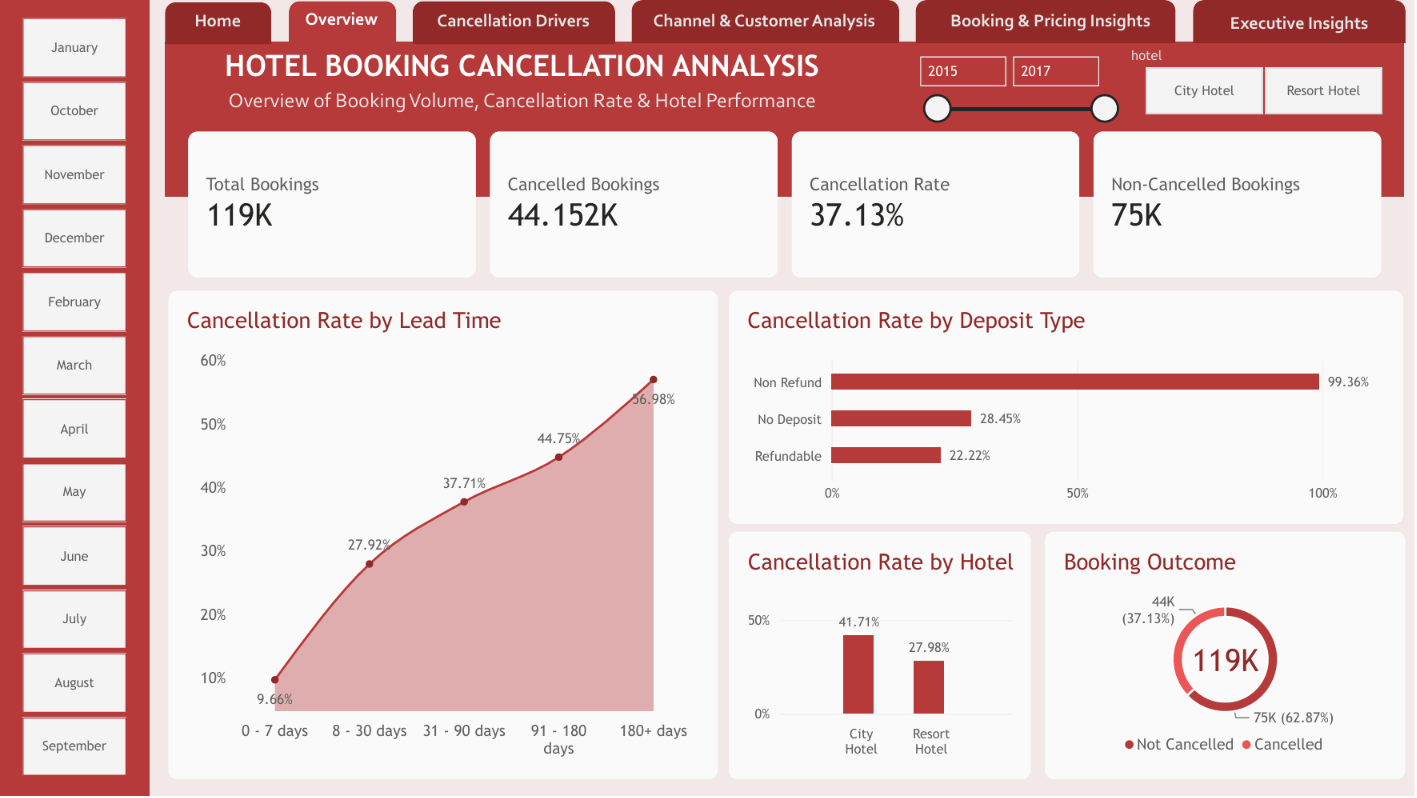

This screenshot's page, from the dashboard's own definition file:
{"tool":"powerbi","page":{"name":"Overview","canvas":[1280,720],"ordinal":1},"visuals":[{"type":"shape","box":[148.2,38.3,1120.8,140],"z":0,"group":"g6"},{"type":"textbox","box":[198.9,47,606.4,35.1],"z":0,"group":"g4"},{"type":"shape","box":[933.8,476.5,346.2,243.7],"z":0},{"type":"shape","box":[372,0.7,182.6,39],"z":1000,"group":"g6"},{"type":"textbox","box":[234.9,82,533.5,26.9],"z":1000,"group":"g4"},{"type":"group","id":"g1","title":"Group 2","box":[644.1,475,299.2,243.7],"z":1000},{"type":"shape","box":[827.3,0,234.9,39],"z":2000,"group":"g6"},{"type":"group","id":"g2","title":"Group 2","box":[150.8,253.2,501,464.5],"z":2000},{"type":"shape","box":[570.1,0,241.6,39],"z":3000,"group":"g6"},{"type":"group","id":"g3","title":"Group 2","box":[643.3,250.9,634.6,232.8],"z":3000},{"type":"shape","box":[1.2,0,134.7,720.5],"z":4000},{"type":"shape","box":[259.6,0.6,96.8,39],"z":4000,"group":"g6"},{"type":"shape","box":[1077.8,0.3,192,39],"z":5000,"group":"g6"},{"type":"donutChart","title":"Booking Outcome","fields":{"Category":["hotel_bookings.Booking_Status"],"Y":[" Measures.Total Bookings"]},"box":[947.1,487.4,326.2,223.6],"z":5000},{"type":"shape","box":[148.2,2.1,95.7,37.8],"z":6000,"group":"g6"},{"type":"clusteredColumnChart","title":"Cancellation Rate by Hotel","fields":{"Y":[" Measures.Cancellation Rate"],"Category":["hotel_bookings.hotel"]},"box":[657.5,487.4,273.9,223.2],"z":6000},{"type":"group","id":"g4","title":"Group 3","box":[198.9,47,606.4,61.8],"z":7000,"group":"g6"},{"type":"lineChart","title":"Cancellation Rate by Lead Time","fields":{"Y":[" Measures.Cancellation Rate"],"Category":["hotel_bookings.lead_time_groups"]},"box":[162.9,265.4,488.6,442.8],"z":7000},{"type":"group","id":"g5","title":"Group 5","box":[145.8,7.1,905.2,29.9],"z":8000,"group":"g6"},{"type":"barChart","title":"Cancellation Rate by Deposit Type","fields":{"Category":["hotel_bookings.deposit_type"],"Y":[" Measures.Cancellation Rate"]},"box":[655.1,261.8,610.8,211.3],"z":8000},{"type":"textbox","box":[1102.6,10.6,142.4,25.3],"z":9000,"group":"g6"},{"type":"slicer","fields":{"Values":["hotel_bookings.arrival_date_month"]},"box":[0,14.3,134.3,690],"z":9000},{"type":"group","id":"g6","title":"Group 1","box":[145.8,0,1124,178.3],"z":10000},{"type":"slicer","fields":{"Values":["hotel_bookings.hotel"]},"box":[1016.4,42.8,254.1,62.3],"z":11000},{"type":"slicer","fields":{"Values":["hotel_bookings.arrival_date_year"]},"box":[824.6,46.4,191.8,72.1],"z":12000},{"type":"group","id":"g7","title":"Group 2","box":[984.5,110.5,279.9,144.8],"z":13000},{"type":"group","id":"g8","title":"Group 2","box":[707.1,110.5,279.9,144.8],"z":14000},{"type":"shape","box":[152.3,110.5,279.9,144.8],"z":15000,"group":"g10"},{"type":"group","id":"g9","title":"Group 2","box":[429.7,110.5,279.9,144.8],"z":15000},{"type":"shape","box":[429.7,110.5,279.9,144.8],"z":15000,"group":"g9"},{"type":"shape","box":[707.1,110.5,279.9,144.8],"z":15000,"group":"g8"},{"type":"shape","box":[984.5,110.5,279.9,144.8],"z":15000,"group":"g7"},{"type":"shape","box":[643.3,250.9,634.6,232.8],"z":15000,"group":"g3"},{"type":"shape","box":[150.8,253.2,501,464.5],"z":15000,"group":"g2"},{"type":"shape","box":[644.1,475,299.2,243.7],"z":15000,"group":"g1"},{"type":"group","id":"g10","title":"Group 2","box":[152.3,110.5,279.9,144.8],"z":16000},{"type":"cardVisual","title":"Total Bookings","fields":{"Data":[" Measures.Cancelled Bookings"]},"box":[444.8,152.2,253.4,65.1],"z":16000,"group":"g9"},{"type":"cardVisual","title":"Total Bookings","fields":{"Data":[" Measures.Total Bookings"]},"box":[167.7,152.7,253.4,65.1],"z":16000,"group":"g10"},{"type":"cardVisual","title":"Total Bookings","fields":{"Data":[" Measures.Cancellation Rate"]},"box":[722.5,152.7,253.4,65.1],"z":16000,"group":"g8"},{"type":"cardVisual","title":"Total Bookings","fields":{"Data":[" Measures.Non-Cancelled Bookings"]},"box":[1005.1,155.1,253.4,65.1],"z":16000,"group":"g7"},{"type":"image","box":[164.1,43.4,51.9,61.5],"z":16001},{"type":"textbox","box":[458.4,132.9,228,20.5],"z":17000,"group":"g9"},{"type":"textbox","box":[181.3,133.4,228,20.5],"z":17000,"group":"g10"},{"type":"textbox","box":[736.1,133.4,228,20.5],"z":17000,"group":"g8"},{"type":"textbox","box":[1018.4,133.4,228,20.5],"z":17000,"group":"g7"},{"type":"image","box":[616.6,155.1,66.4,65],"z":18000,"group":"g9"},{"type":"image","box":[339.5,155.6,66.4,65],"z":18000,"group":"g10"},{"type":"image","box":[894.3,155.6,66.4,65],"z":18000,"group":"g8"},{"type":"image","box":[1176.6,155.6,66.4,65],"z":18000,"group":"g7"},{"type":"textbox","box":[145.8,9.1,99.1,27.8],"z":19000,"group":"g5"},{"type":"textbox","box":[267.2,7.1,80.8,26.5],"z":20000,"group":"g5"},{"type":"textbox","box":[376.4,9.1,172.5,27.8],"z":21000,"group":"g5"},{"type":"textbox","box":[577.9,9,227.1,25.6],"z":22000,"group":"g5"},{"type":"textbox","box":[847.3,9,203.7,23.4],"z":23000,"group":"g5"}]}

Visuals, with their boxes in screenshot pixels (x1, y1, x2, y2), scaled from the page's 1280x720 canvas onto the 1417x798 screenshot:
shape: 164:42:1405:198
textbox: 220:52:891:91
shape: 1034:528:1416:797
shape: 412:1:614:44
textbox: 260:91:851:121
"Group 2" group: 713:526:1044:797
shape: 916:0:1176:43
"Group 2" group: 167:281:722:795
shape: 631:0:899:43
"Group 2" group: 712:278:1415:536
shape: 1:0:150:797
shape: 287:1:395:44
shape: 1193:0:1406:44
"Booking Outcome" donutChart: 1048:540:1410:788
shape: 164:2:270:44
"Cancellation Rate by Hotel" clusteredColumnChart: 728:540:1031:788
"Group 3" group: 220:52:891:121
"Cancellation Rate by Lead Time" lineChart: 180:294:721:785
"Group 5" group: 161:8:1163:41
"Cancellation Rate by Deposit Type" barChart: 725:290:1401:524
textbox: 1221:12:1378:40
slicer - hotel_bookings.arrival_date_month: 0:16:149:781
"Group 1" group: 161:0:1406:198
slicer - hotel_bookings.hotel: 1125:47:1406:116
slicer - hotel_bookings.arrival_date_year: 913:51:1125:131
"Group 2" group: 1090:122:1400:283
"Group 2" group: 783:122:1093:283
shape: 169:122:478:283
"Group 2" group: 476:122:786:283
shape: 476:122:786:283
shape: 783:122:1093:283
shape: 1090:122:1400:283
shape: 712:278:1415:536
shape: 167:281:722:795
shape: 713:526:1044:797
"Group 2" group: 169:122:478:283
"Total Bookings" cardVisual: 492:169:773:241
"Total Bookings" cardVisual: 186:169:466:241
"Total Bookings" cardVisual: 800:169:1080:241
"Total Bookings" cardVisual: 1113:172:1393:244
image: 182:48:239:116
textbox: 507:147:760:170
textbox: 201:148:453:171
textbox: 815:148:1067:171
textbox: 1127:148:1380:171
image: 683:172:756:244
image: 376:172:449:244
image: 990:172:1064:244
image: 1303:172:1376:244
textbox: 161:10:271:41
textbox: 296:8:385:37
textbox: 417:10:608:41
textbox: 640:10:891:38
textbox: 938:10:1163:36
